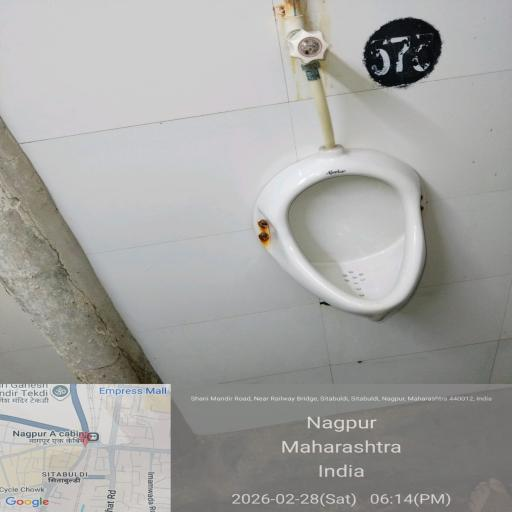clean_floor: (26, 11, 272, 223), (324, 13, 512, 166), (138, 240, 278, 388), (432, 192, 512, 399), (310, 325, 440, 378)
clean_urinal: (278, 163, 426, 314)
partial_dirty_floor: (273, 0, 336, 85)
